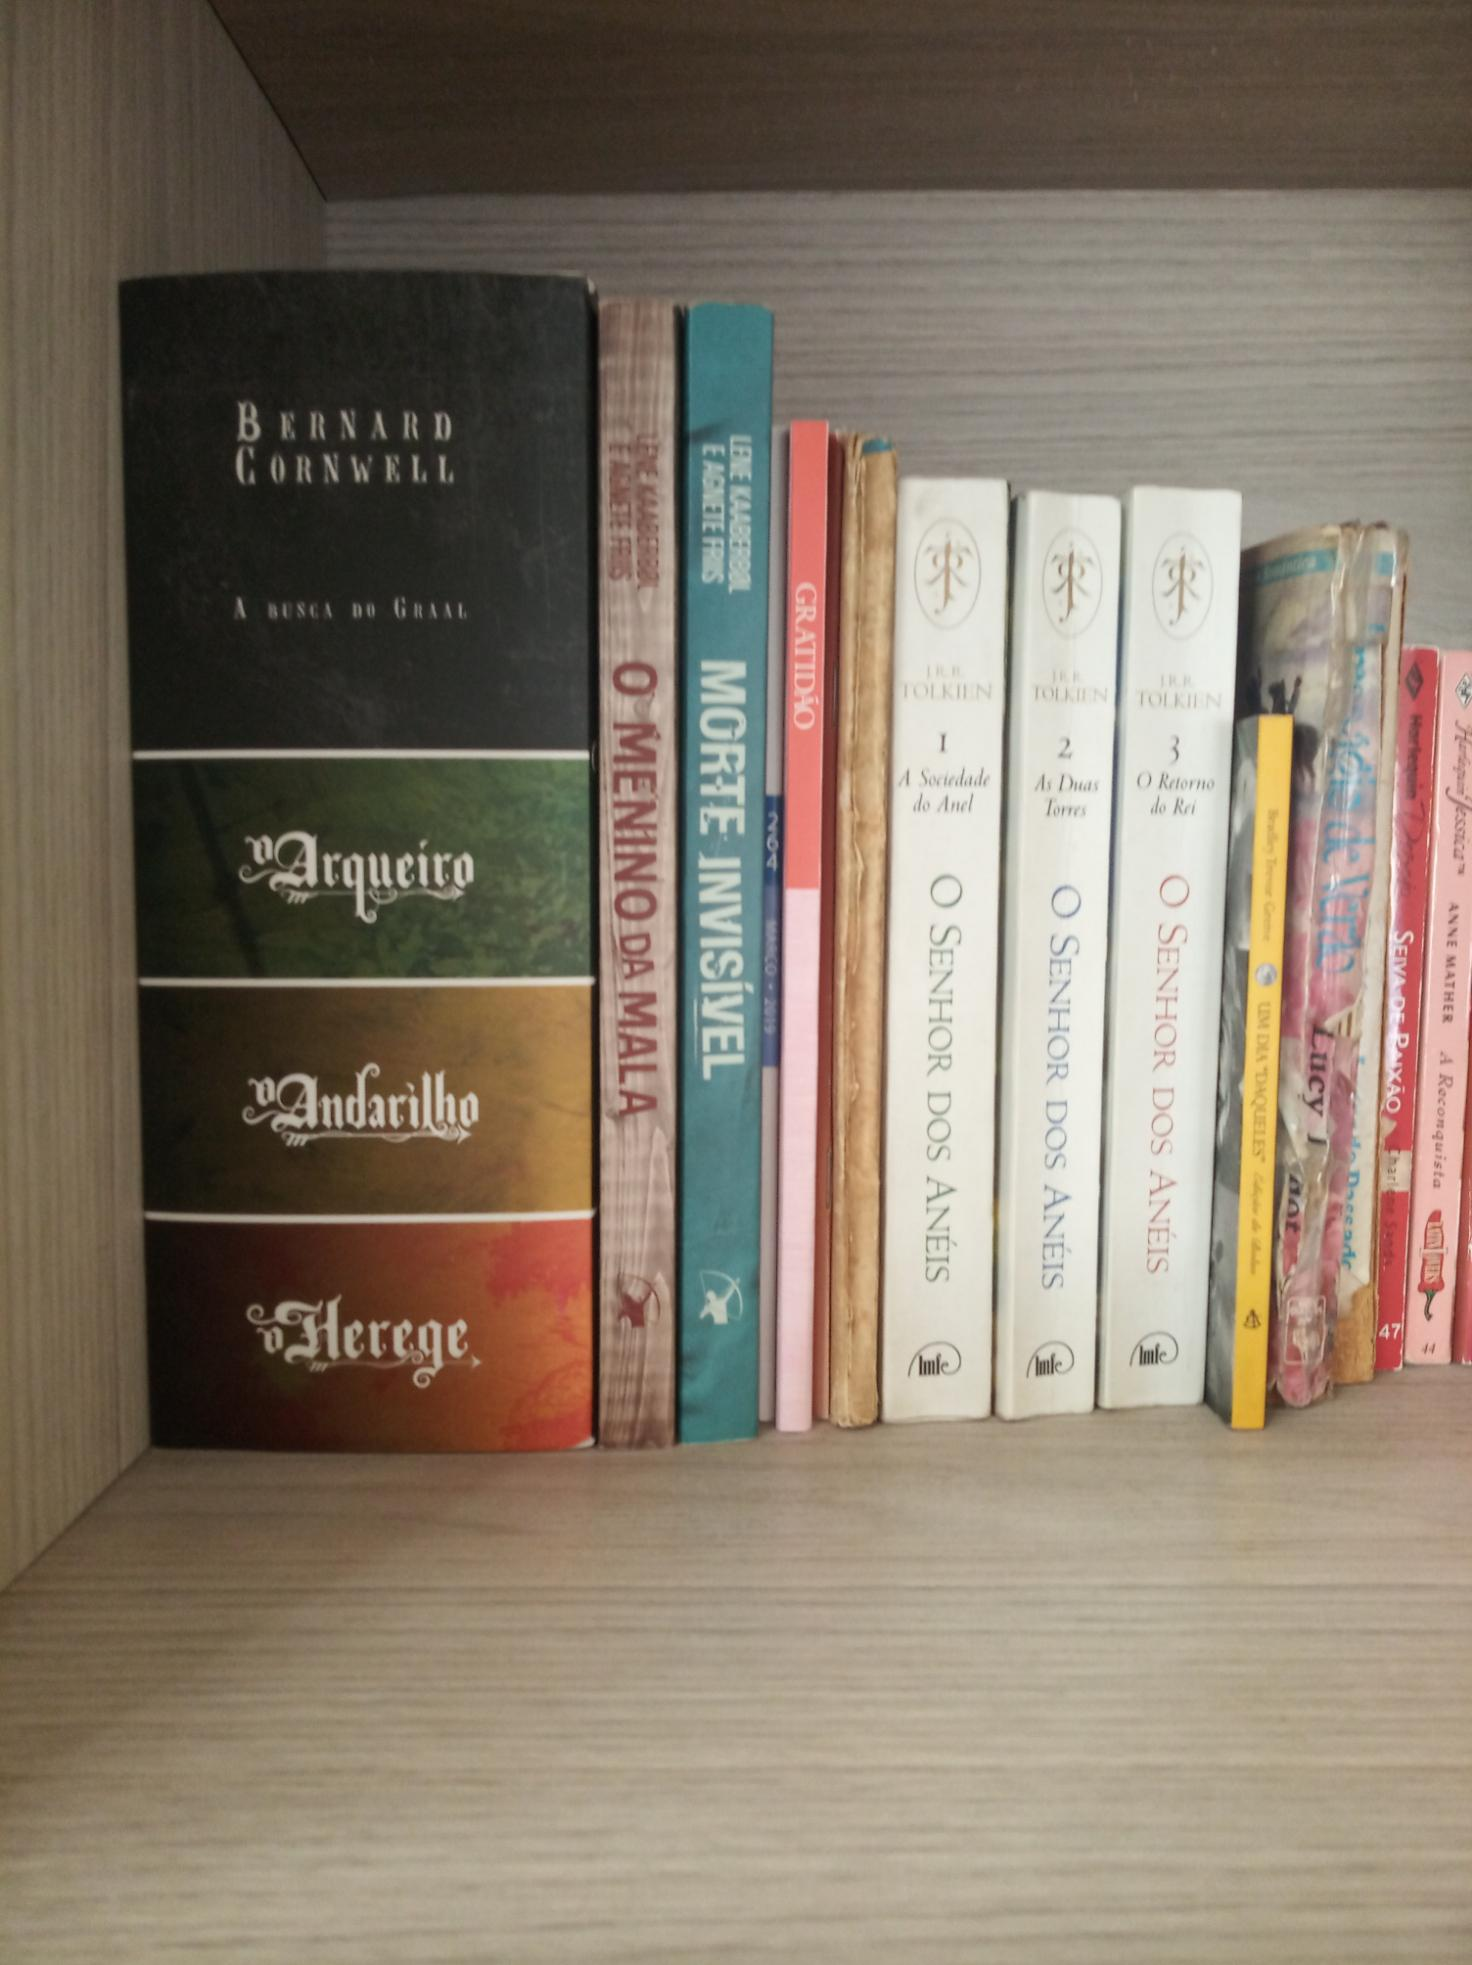book: (142, 294, 577, 1436), (901, 479, 983, 1405), (1133, 501, 1212, 1408), (605, 306, 660, 1439), (699, 301, 755, 1435), (1421, 656, 1472, 1353), (779, 421, 813, 1439), (1235, 711, 1265, 1418), (761, 428, 778, 1422)
